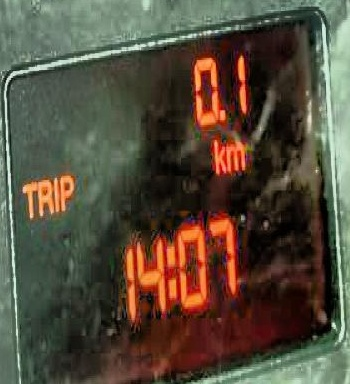-: (217, 102, 224, 122)
0: (177, 222, 207, 308), (192, 53, 218, 122)
1: (122, 242, 134, 322), (234, 49, 247, 115)
4: (135, 233, 165, 313)
7: (207, 213, 236, 295)
X: (20, 178, 36, 220), (165, 240, 176, 300), (211, 131, 226, 173), (37, 175, 52, 215), (58, 171, 73, 211), (226, 140, 245, 171), (52, 173, 58, 213)
